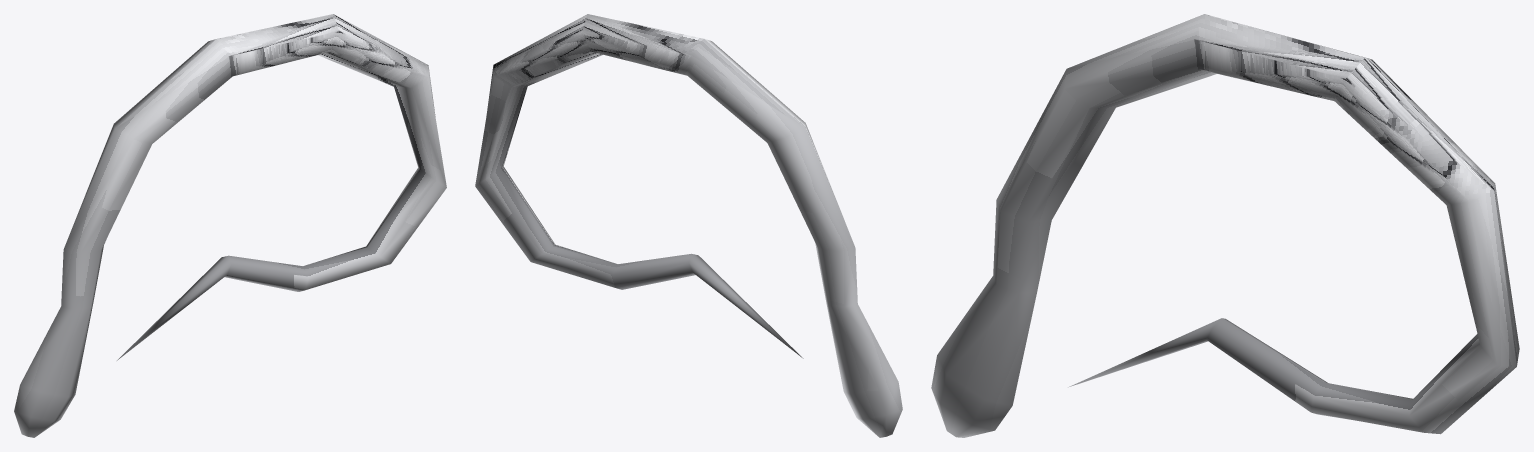
Rendered from snake_000010.obj.
The picture shows the model from 3 angles, left to right: view 1: azimuth 30°, elevation 25°; view 2: azimuth 150°, elevation 25°; view 3: azimuth 330°, elevation 25°; orthographic projection. The views are drawn at different scales.
Visible parts, largest first — view 1: Cylinder; view 2: Cylinder; view 3: Cylinder.
Part boxes in pixels (<box>): Cylinder: <box>14,14,446,437</box>; Cylinder: <box>475,14,902,437</box>; Cylinder: <box>931,14,1519,437</box>.
Bounding box in the file's own units: 4.46 × 3.53 × 0.3671.
